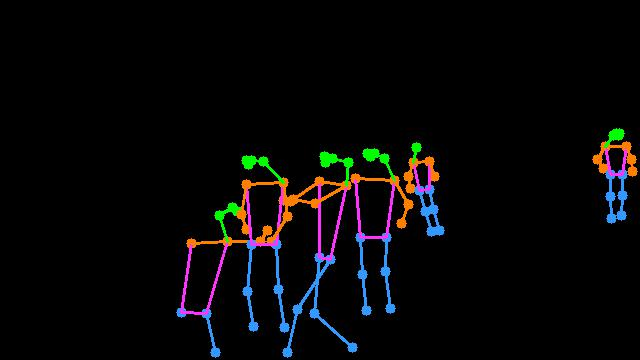normal: (582, 118, 640, 233)
